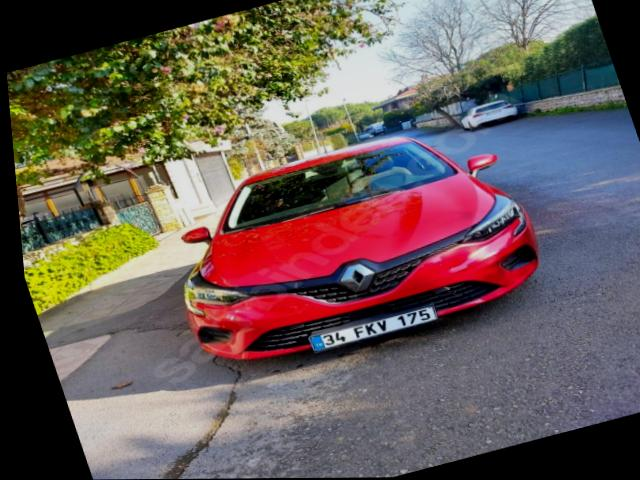plaka: (309, 305, 437, 351)
